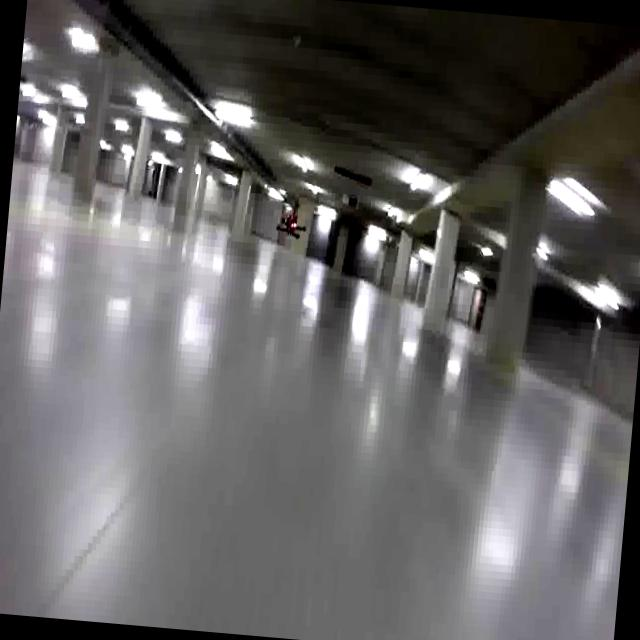drone: (267, 200, 312, 247)
